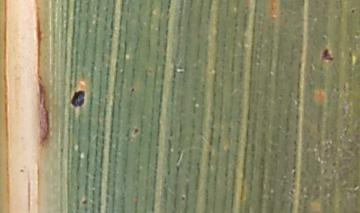tarspot: (70, 88, 86, 107), (321, 47, 334, 62), (81, 198, 89, 205), (129, 86, 136, 93), (133, 126, 139, 134), (180, 195, 186, 201), (350, 8, 356, 13)
